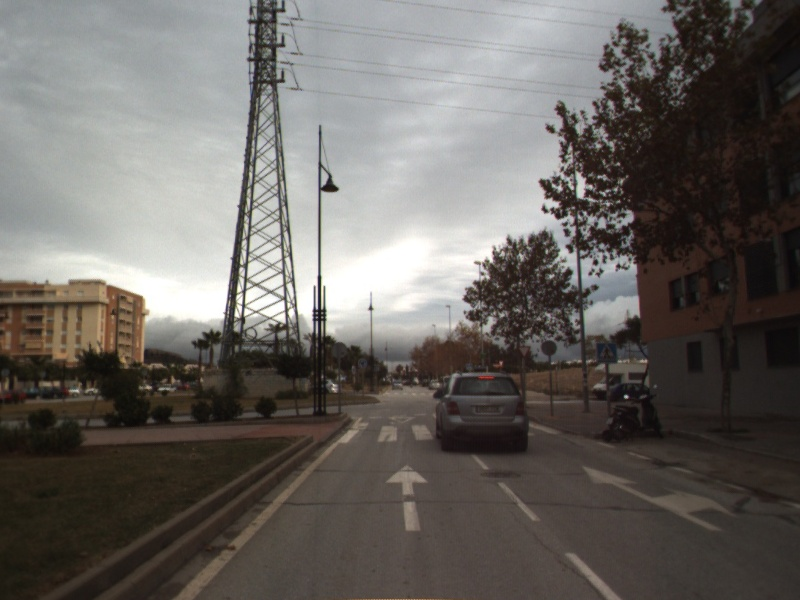STRAIGHT: (383, 462, 431, 533)
STRAIGHT_RIGHT: (580, 463, 741, 532)
